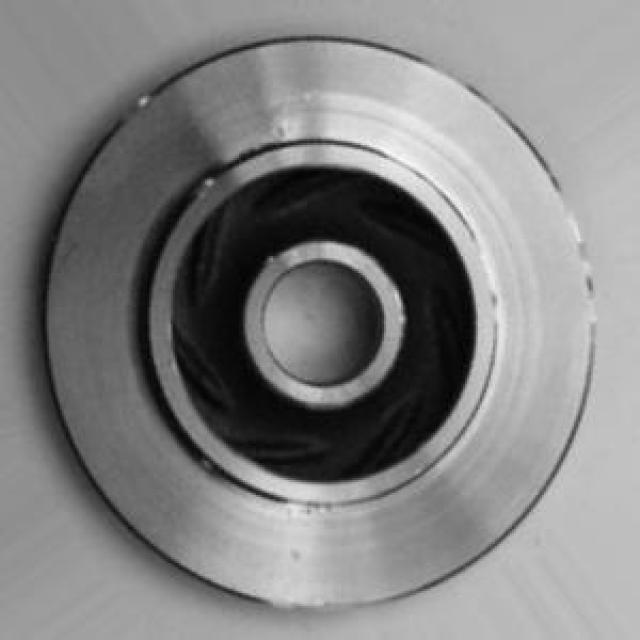Defect: (186, 166, 227, 208)
